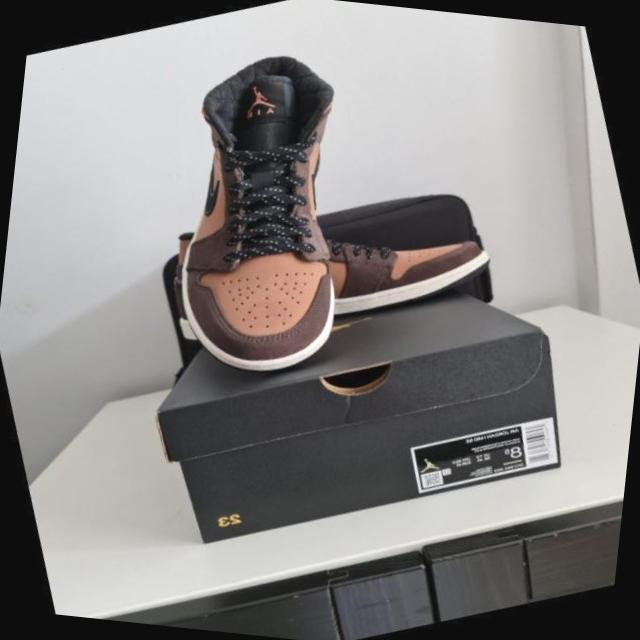nike_original_jordan: (82, 21, 419, 412)
